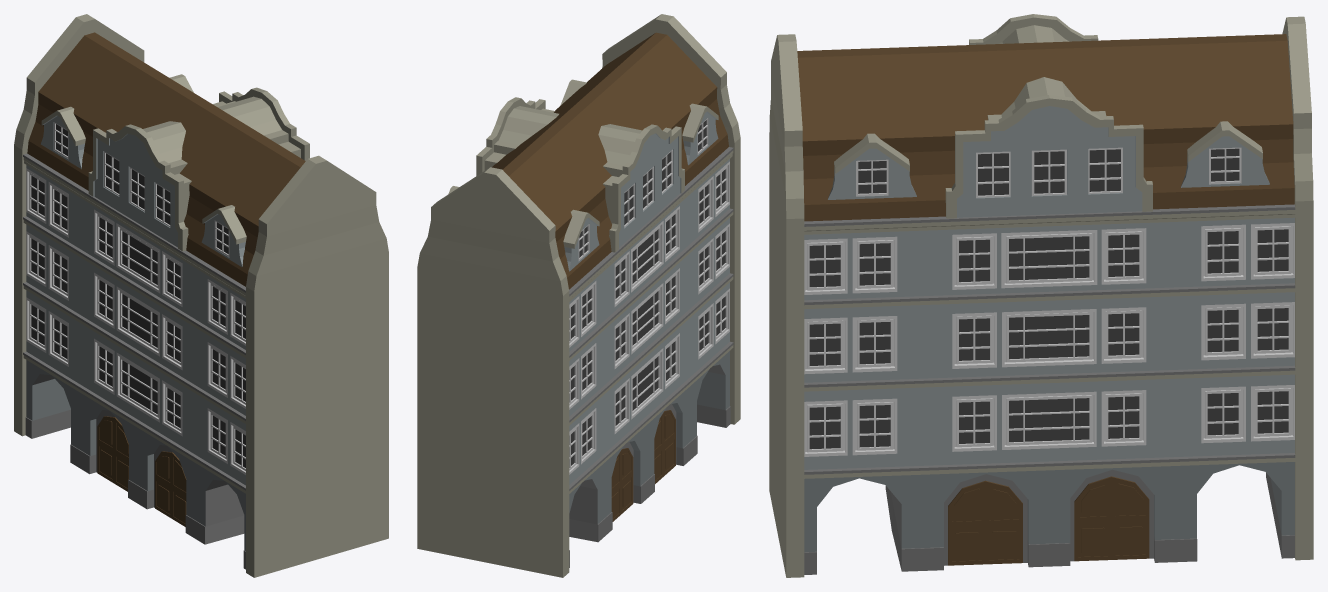
Rendered from building2_large_lev3.glb.
The picture shows the model from 3 angles, left to right: view 1: azimuth 30°, elevation 25°; view 2: azimuth 150°, elevation 25°; view 3: azimuth 270°, elevation 25°; orthographic projection. The views are drawn at different scales.
Visible parts, largest first — view 1: building2_large_lev3; view 2: building2_large_lev3; view 3: building2_large_lev3.
Part boxes in pixels (x1=…): building2_large_lev3: x1=14, y1=14, x2=388, y2=577; building2_large_lev3: x1=417, y1=14, x2=740, y2=577; building2_large_lev3: x1=769, y1=14, x2=1313, y2=577.
Size of the model in its own units: 3.44 by 7.59 by 7.54.
